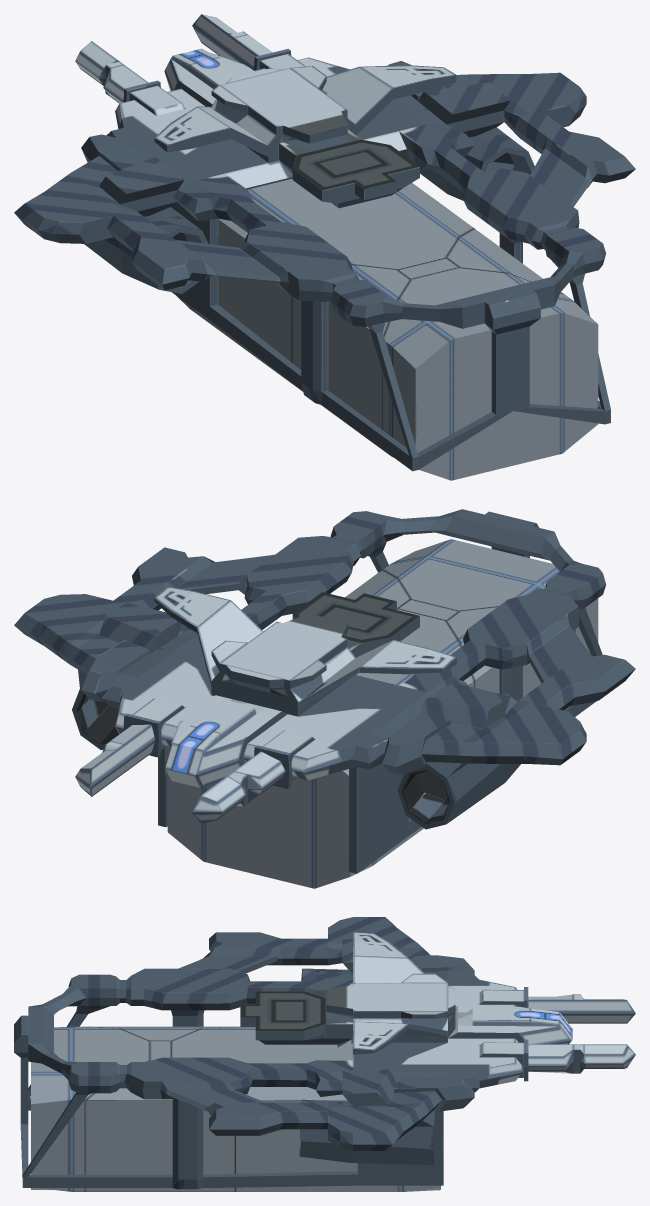
The model's file is Cargo Frigate.fbx.
3 renders of one model, top to bottom at view 1: azimuth 30°, elevation 25°; view 2: azimuth 150°, elevation 25°; view 3: azimuth 270°, elevation 25°, orthographic. The views are drawn at different scales.
Parts seen in each view (by area): view 1: Cargo_S_LOD0; view 2: Cargo_S_LOD0; view 3: Cargo_S_LOD0.
Part boxes in pixels (x1,y1,x2,y2): Cargo_S_LOD0: (14,14,635,480); Cargo_S_LOD0: (14,509,635,888); Cargo_S_LOD0: (14,917,635,1191).
Size of what is drawn, in the model's own units: 411 by 488 by 155.
